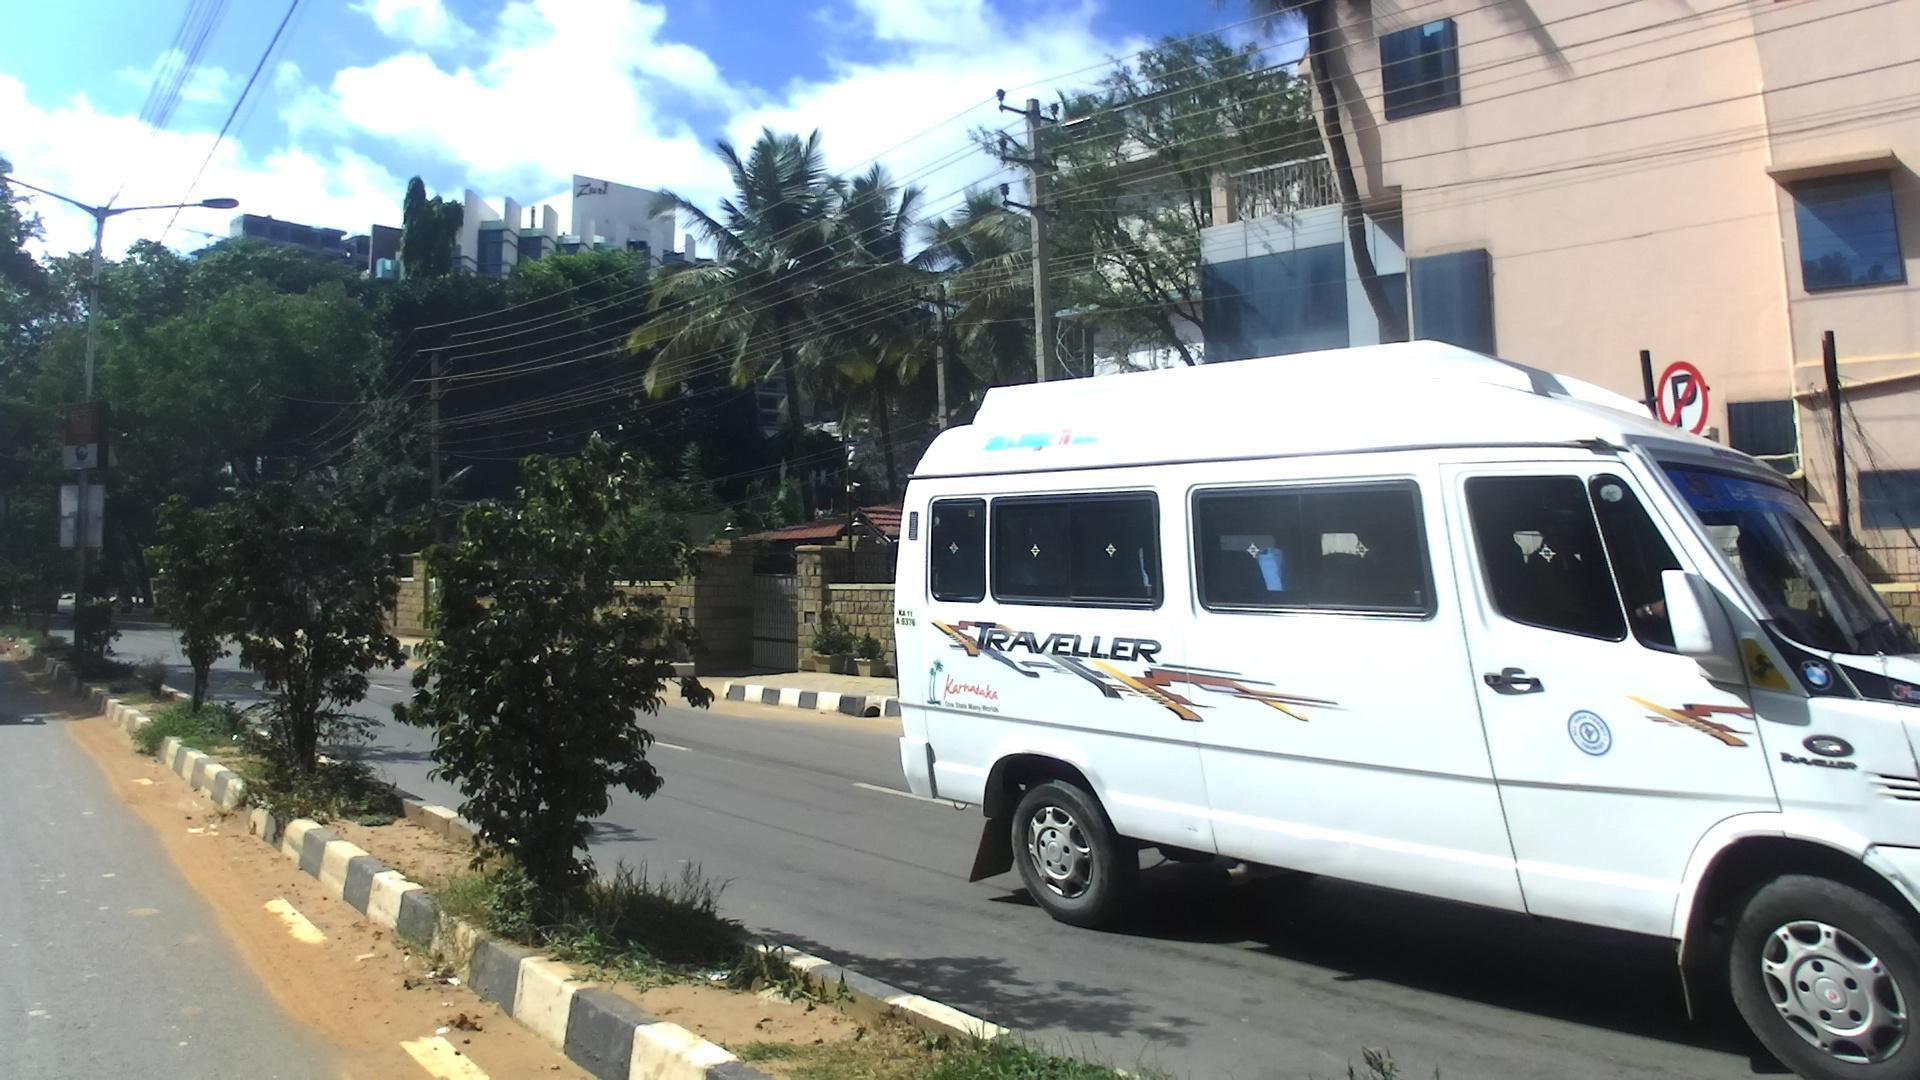off: (70, 3, 1920, 1080)
